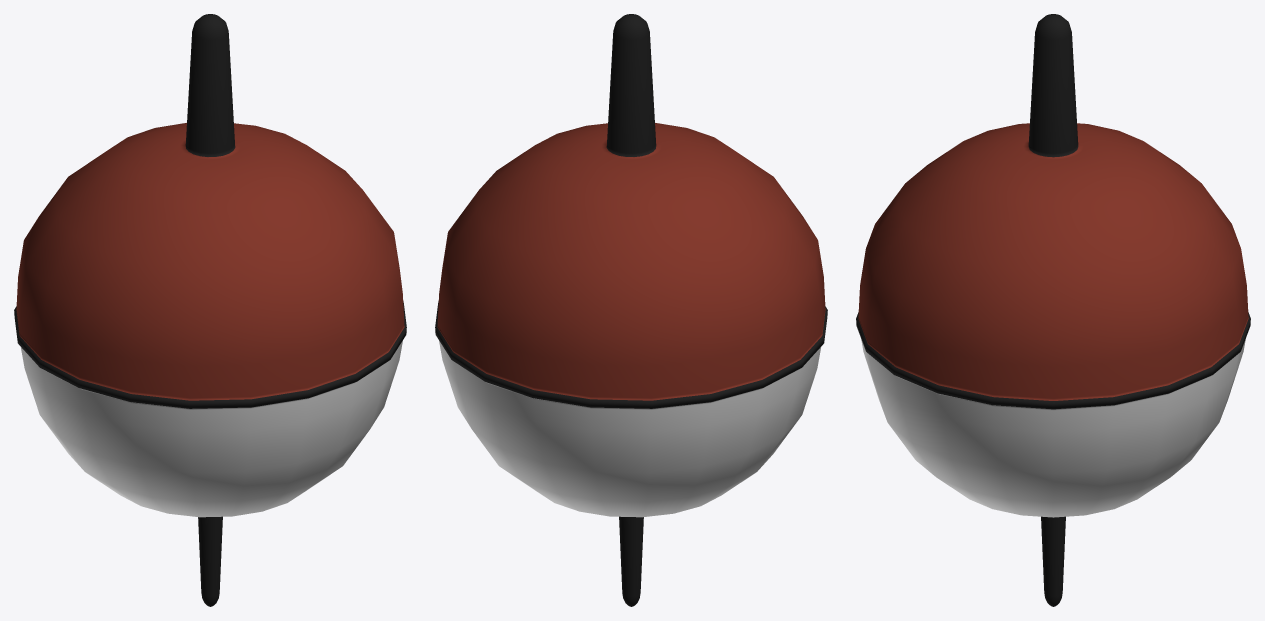
The model's file is 2024_GoFish_Float_V1.fbx.
3 views of the same model, side by side, from view 1: azimuth 30°, elevation 25°; view 2: azimuth 150°, elevation 25°; view 3: azimuth 270°, elevation 25° (orthographic).
Parts seen in each view (by area): view 1: Sphere; view 2: Sphere; view 3: Sphere.
Boxes of the visible parts, x1=… form: Sphere: x1=14, y1=14, x2=406, y2=606; Sphere: x1=435, y1=14, x2=827, y2=606; Sphere: x1=856, y1=14, x2=1250, y2=606.
Bounding box in the file's own units: 2.59 × 4.27 × 2.59.
